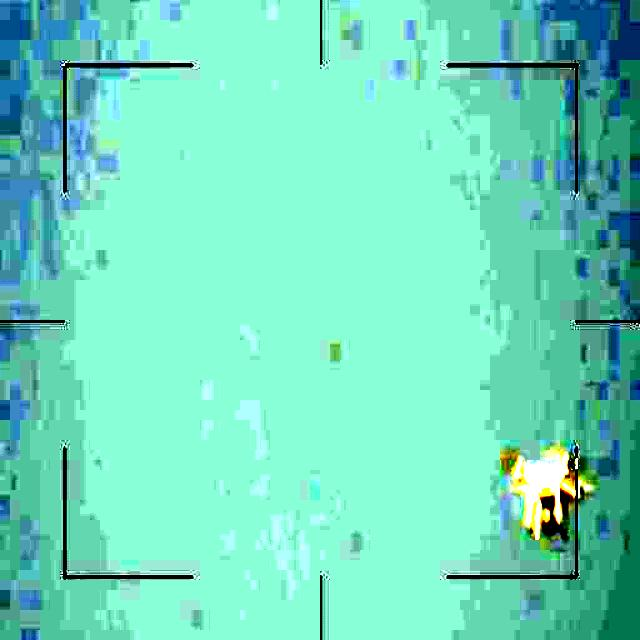bird: (500, 448, 598, 544)
